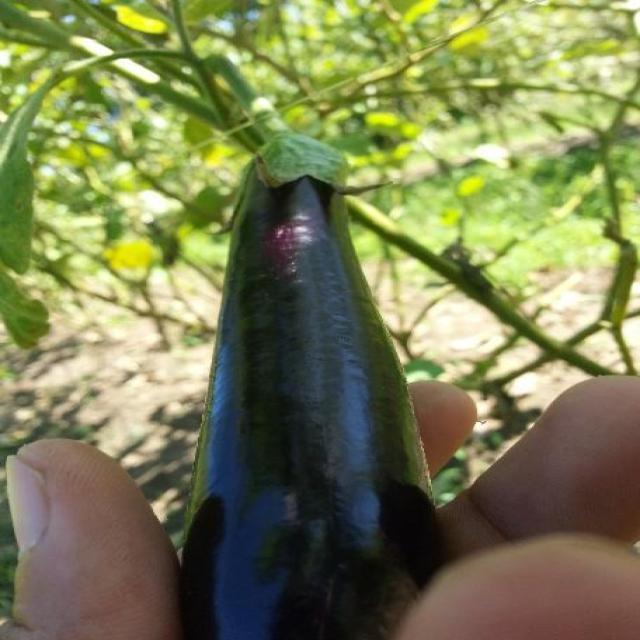Eggplant: (174, 118, 454, 640)
